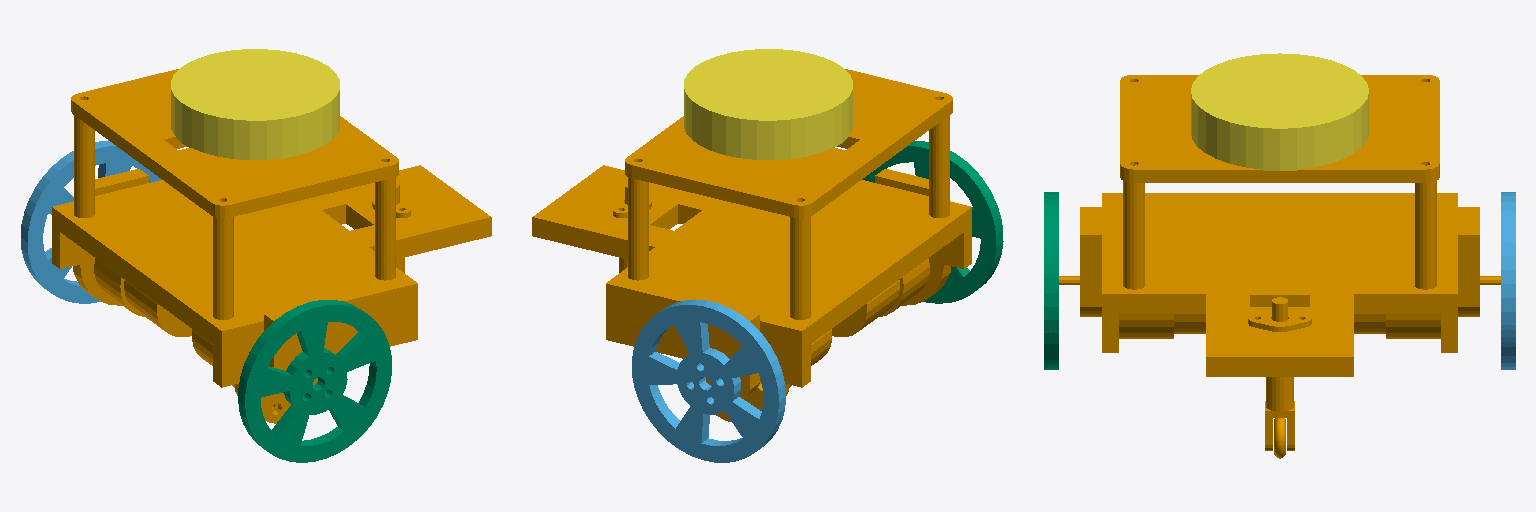
The robot description file, URDF, robot "ddr_urdf":
<?xml version="1.0" encoding="utf-8"?>
<robot name="ddr_urdf" xmlns:xacro="http://ros.org/wiki/xacro">
  <link
    name="base_link">
    <inertial>
      <origin
        xyz="0.0181995182140738 -3.2612801348364E-16 -0.00276660416271973"
        rpy="0 0 0" />
      <mass
        value="0.443722021822356" />
      <inertia
        ixx="0.000696660783343318"
        ixy="-4.10541788338937E-18"
        ixz="-1.73835831247213E-05"
        iyy="0.000483852662901766"
        iyz="-9.39165770832175E-20"
        izz="0.00110580849651397" />
    </inertial>
    <visual>
      <origin
        xyz="0 0 0"
        rpy="0 0 0" />
      <geometry>
        <mesh
          filename="package://ddr_urdf/meshes/base_link.STL" />
      </geometry>
    </visual>
    <collision>
      <origin
        xyz="0 0 0"
        rpy="0 0 0" />
      <geometry>
        <mesh
          filename="package://ddr_urdf/meshes/base_link.STL" />
      </geometry>
    </collision>
  </link>
  <link
    name="left_wheel">
    <inertial>
      <origin
        xyz="-5.55111512312578E-16 -0.003175 5.96744875736022E-16"
        rpy="0 0 0" />
      <mass
        value="0.0200098005396681" />
      <inertia
        ixx="8.1981759107312E-06"
        ixy="-1.00227236420066E-21"
        ixz="-2.27167310991176E-21"
        iyy="1.62618776244189E-05"
        iyz="-1.73164708639823E-22"
        izz="8.1981759107312E-06" />
    </inertial>
    <visual>
      <origin
        xyz="0 0 0"
        rpy="0 0 0" />
      <geometry>
        <mesh
          filename="package://ddr_urdf/meshes/left_wheel.STL" />
      </geometry>
    </visual>
    <collision>
      <origin
        xyz="0 0 0"
        rpy="0 0 0" />
      <geometry>
        <mesh
          filename="package://ddr_urdf/meshes/left_wheel.STL" />
      </geometry>
      <surface>
        <friction>
          <ode>
            <mu>1000</mu>
            <mu2>1000</mu2>
          </ode>
        </friction>
      </surface>
    </collision>
  </link>
  <joint
    name="left_joint"
    type="continuous">
    <origin
      xyz="0 0.10055 -0.024525"
      rpy="0 0 0" />
    <parent
      link="base_link" />
    <child
      link="left_wheel" />
    <axis
      xyz="0 1 0" />
  </joint>
  <link
    name="right_wheel">
    <inertial>
      <origin
        xyz="2.77555756156289E-17 0.00317500000000001 -7.63278329429795E-17"
        rpy="0 0 0" />
      <mass
        value="0.0200098005396681" />
      <inertia
        ixx="8.19817591073118E-06"
        ixy="1.19139779353411E-21"
        ixz="-5.16987882845644E-22"
        iyy="1.62618776244189E-05"
        iyz="2.65399463552688E-23"
        izz="8.19817591073119E-06" />
    </inertial>
    <visual>
      <origin
        xyz="0 0 0"
        rpy="0 0 0" />
      <geometry>
        <mesh
          filename="package://ddr_urdf/meshes/right_wheel.STL" />
      </geometry>
    </visual>
    <collision>
      <origin
        xyz="0 0 0"
        rpy="0 0 0" />
      <geometry>
        <mesh
          filename="package://ddr_urdf/meshes/right_wheel.STL" />
      </geometry>
      <surface>
        <friction>
          <ode>
            <mu>1000</mu>
            <mu2>1000</mu2>
          </ode>
        </friction>
      </surface>
    </collision>
  </link>
  <joint
    name="right_joint"
    type="continuous">
    <origin
      xyz="0 -0.10055 -0.024525"
      rpy="0 0 0" />
    <parent
      link="base_link" />
    <child
      link="right_wheel" />
    <axis
      xyz="0 1 0" />
  </joint>
  <joint name="lidar_joint" type="fixed">
    <parent link="base_link"/>
    <child link="lidar_link"/>
    <origin xyz="0.0254 0 0.066675" rpy="0 0 0"/>
  </joint>
  <link name="lidar_link">
    <visual>
      <geometry>
        <cylinder radius="0.0381" length="0.02"/>
      </geometry>
    </visual>
    <collision>
      <geometry>
        <cylinder radius="0.0381" length="0.02"/>
      </geometry>
    </collision>
  </link>
  <gazebo reference="lidar_link">
    <material>Gazebo/Red</material>
    <sensor type="gpu_ray" name="head_hokuyo_sensor">
      <pose>0 0 0 0 0 0</pose>
      <visualize>true</visualize>
      <update_rate>40</update_rate>
      <ray>
        <scan>
          <horizontal>
            <samples>720</samples>
            <resolution>1</resolution>
            <min_angle>-3.14</min_angle>
            <max_angle>3.14</max_angle>
          </horizontal>
        </scan>
        <range>
          <min>0.10</min>
          <max>30.0</max>
          <resolution>0.01</resolution>
        </range>
        <noise>
          <type>gaussian</type>
          <!-- Noise parameters based on published spec for Hokuyo laser
                achieving "+-30mm" accuracy at range < 10m.  A mean of 0.0m and
                stddev of 0.01m will put 99.7% of samples within 0.03m of the true
                reading. -->
          <mean>0.0</mean>
          <stddev>0.01</stddev>
        </noise>
      </ray>
      <plugin name="gazebo_ros_head_hokuyo_controller" filename="libgazebo_ros_gpu_laser.so">
        <topicName>scan</topicName>
        <frameName>lidar_link</frameName>
      </plugin>
    </sensor>
  </gazebo>
  <transmission name="left_trans">
    <type>transmission_interface/SimpleTransmission</type>
    <joint name="left_joint">
      <hardwareInterface>EffortJointInterface</hardwareInterface>
    </joint>
    <actuator name="left_motor">
      <hardwareInterface>EffortJointInterface</hardwareInterface>
      <mechanicalReduction>1</mechanicalReduction>
    </actuator>
  </transmission>
  <transmission name="right_trans">
    <type>transmission_interface/SimpleTransmission</type>
    <joint name="right_joint">
      <hardwareInterface>EffortJointInterface</hardwareInterface>
    </joint>
    <actuator name="right_motor">
      <hardwareInterface>EffortJointInterface</hardwareInterface>
      <mechanicalReduction>1</mechanicalReduction>
    </actuator>
  </transmission>
  <gazebo>
    <plugin name="differential_drive_controller" filename="libgazebo_ros_diff_drive.so">
      <!-- Plugin update rate in Hz -->
      <updateRate>10</updateRate>
      <!-- Name of left joint, defaults to `left_joint` -->
      <leftJoint>left_joint</leftJoint>
      <!-- Name of right joint, defaults to `right_joint` -->
      <rightJoint>right_joint</rightJoint>
      <!-- The distance from the center of one wheel to the other, in meters, defaults to 0.34 m -->
      <wheelSeparation>0.1883</wheelSeparation>
      <!-- Diameter of the wheels, in meters, defaults to 0.15 m -->
      <wheelDiameter>0.0762</wheelDiameter>
      <!-- Maximum torque which the wheels can produce, in Nm, defaults to 5 Nm -->
      <wheelTorque>5</wheelTorque>
      <!-- Topic to receive geometry_msgs/Twist message commands, defaults to `cmd_vel` -->
      <commandTopic>cmd_vel</commandTopic>
      <!-- Topic to publish nav_msgs/Odometry messages, defaults to `odom` -->
      <odometryTopic>odom</odometryTopic>
      <!-- Odometry frame, defaults to `odom` -->
      <odometryFrame>odom</odometryFrame>
      <!-- Robot frame to calculate odometry from, defaults to `base_footprint` -->
      <robotBaseFrame>base_link</robotBaseFrame>
      <!-- Odometry source, 0 for ENCODER, 1 for WORLD, defaults to WORLD -->
      <odometrySource>1</odometrySource>
      <!-- Set to true to publish transforms for the wheel links, defaults to false -->
      <publishWheelTF>true</publishWheelTF>
      <!-- Set to true to publish transforms for the odometry, defaults to true -->
      <publishOdom>true</publishOdom>
      <!-- Set to true to publish sensor_msgs/JointState on /joint_states for the wheel joints, defaults to false -->
      <publishWheelJointState>true</publishWheelJointState>
      <!-- Set to true to swap right and left wheels, defaults to true -->
      <legacyMode>false</legacyMode>
    </plugin>
  </gazebo>
  <gazebo reference="base_link">
    <material>Gazebo/Yellow</material>
  </gazebo>
  <gazebo reference="left_wheel">
    <material>Gazebo/Black</material>
  </gazebo>
  <gazebo reference="right_wheel">
    <material>Gazebo/Black</material>
  </gazebo>
</robot>

--- What the picture shows (computed from the rendered views, not written in the file) ---
The picture shows the robot from 3 angles, left to right: view 1: azimuth 30°, elevation 25°; view 2: azimuth 150°, elevation 25°; view 3: azimuth 270°, elevation 25°; orthographic projection.
Robot: ddr_urdf — 4 links, 3 joints (2 continuous, 1 fixed); root link base_link; default pose: every joint at zero.
Visible links, largest first — view 1: base_link, lidar_link, right_wheel, left_wheel; view 2: base_link, lidar_link, left_wheel, right_wheel; view 3: base_link, lidar_link, left_wheel, right_wheel.
Link boxes in pixels (x1,y1,x2,y2): base_link: (52,69,491,423); lidar_link: (171,49,339,159); right_wheel: (238,300,391,462); left_wheel: (21,140,161,303); base_link: (532,69,971,421); lidar_link: (684,49,852,159); left_wheel: (632,299,785,462); right_wheel: (862,141,1003,303); base_link: (1059,75,1500,458); lidar_link: (1191,53,1368,170); left_wheel: (1501,192,1515,369); right_wheel: (1044,192,1058,369).
Bounding box of the posed robot: 0.1672 × 0.2011 × 0.1393 m (x, y, z).
3 mesh visuals loaded from 3 distinct referenced files (3 binary STL).